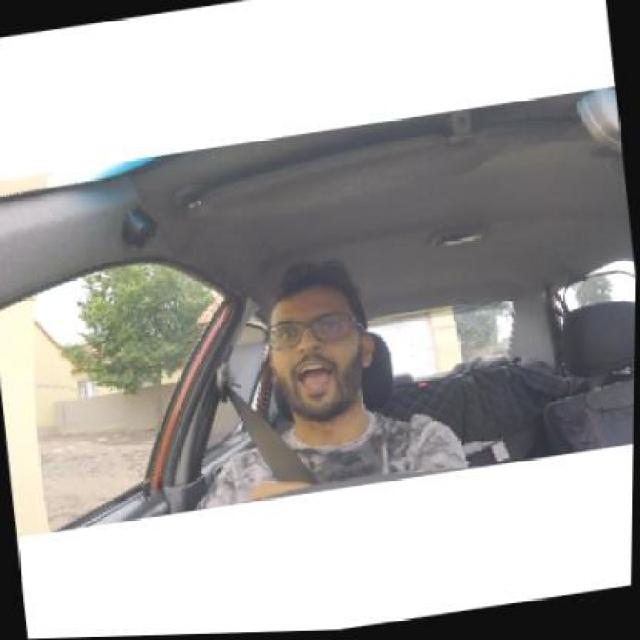person: (266, 277, 377, 409)
